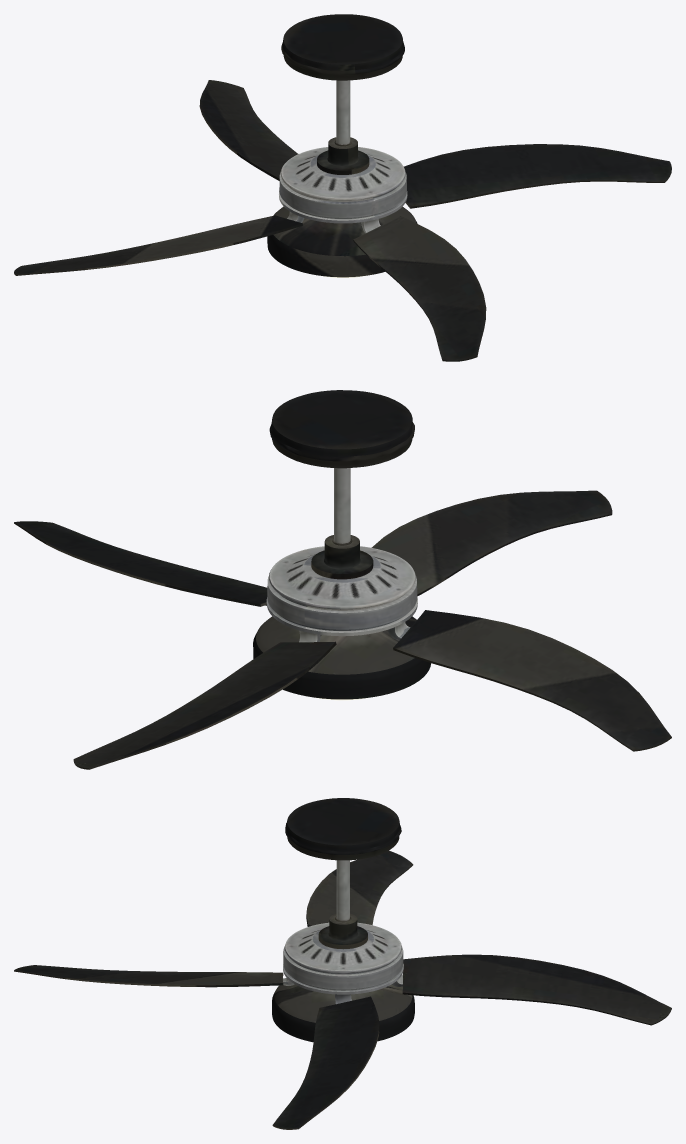
Rendered from fan.glb.
3 renders of one model, top to bottom at view 1: azimuth 30°, elevation 25°; view 2: azimuth 150°, elevation 25°; view 3: azimuth 270°, elevation 25°, orthographic. The views are drawn at different scales.
Visible parts, largest first — view 1: fan; view 2: fan; view 3: fan.
Part boxes in pixels (box(x1,y1,x2,y2)): fan: box(14, 14, 671, 361); fan: box(14, 390, 671, 769); fan: box(14, 798, 671, 1129).
Bounding box in the file's own units: 1.46 × 0.5163 × 1.46.
Materials: 1 (1 with a texture image).
